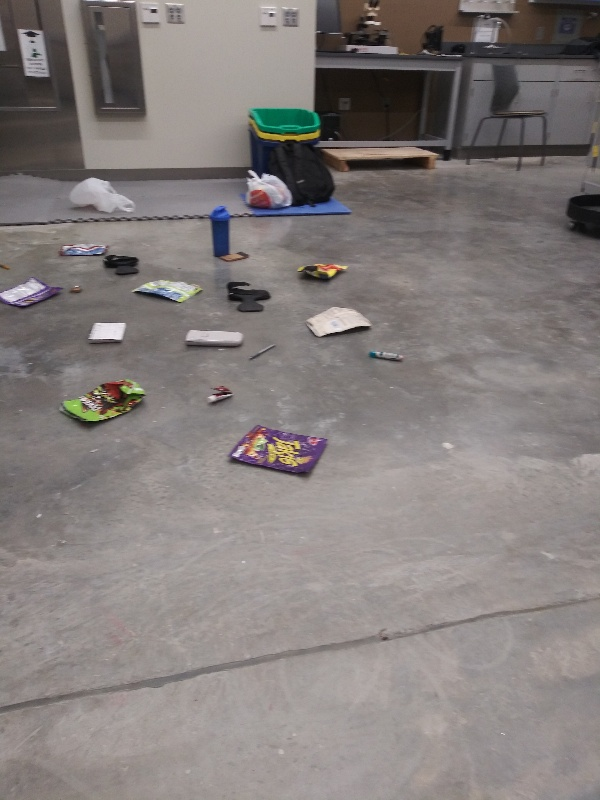bag: (226, 420, 332, 482), (58, 375, 153, 427), (303, 301, 376, 340), (1, 273, 65, 310), (128, 277, 210, 304), (297, 259, 357, 282), (56, 239, 115, 259)
